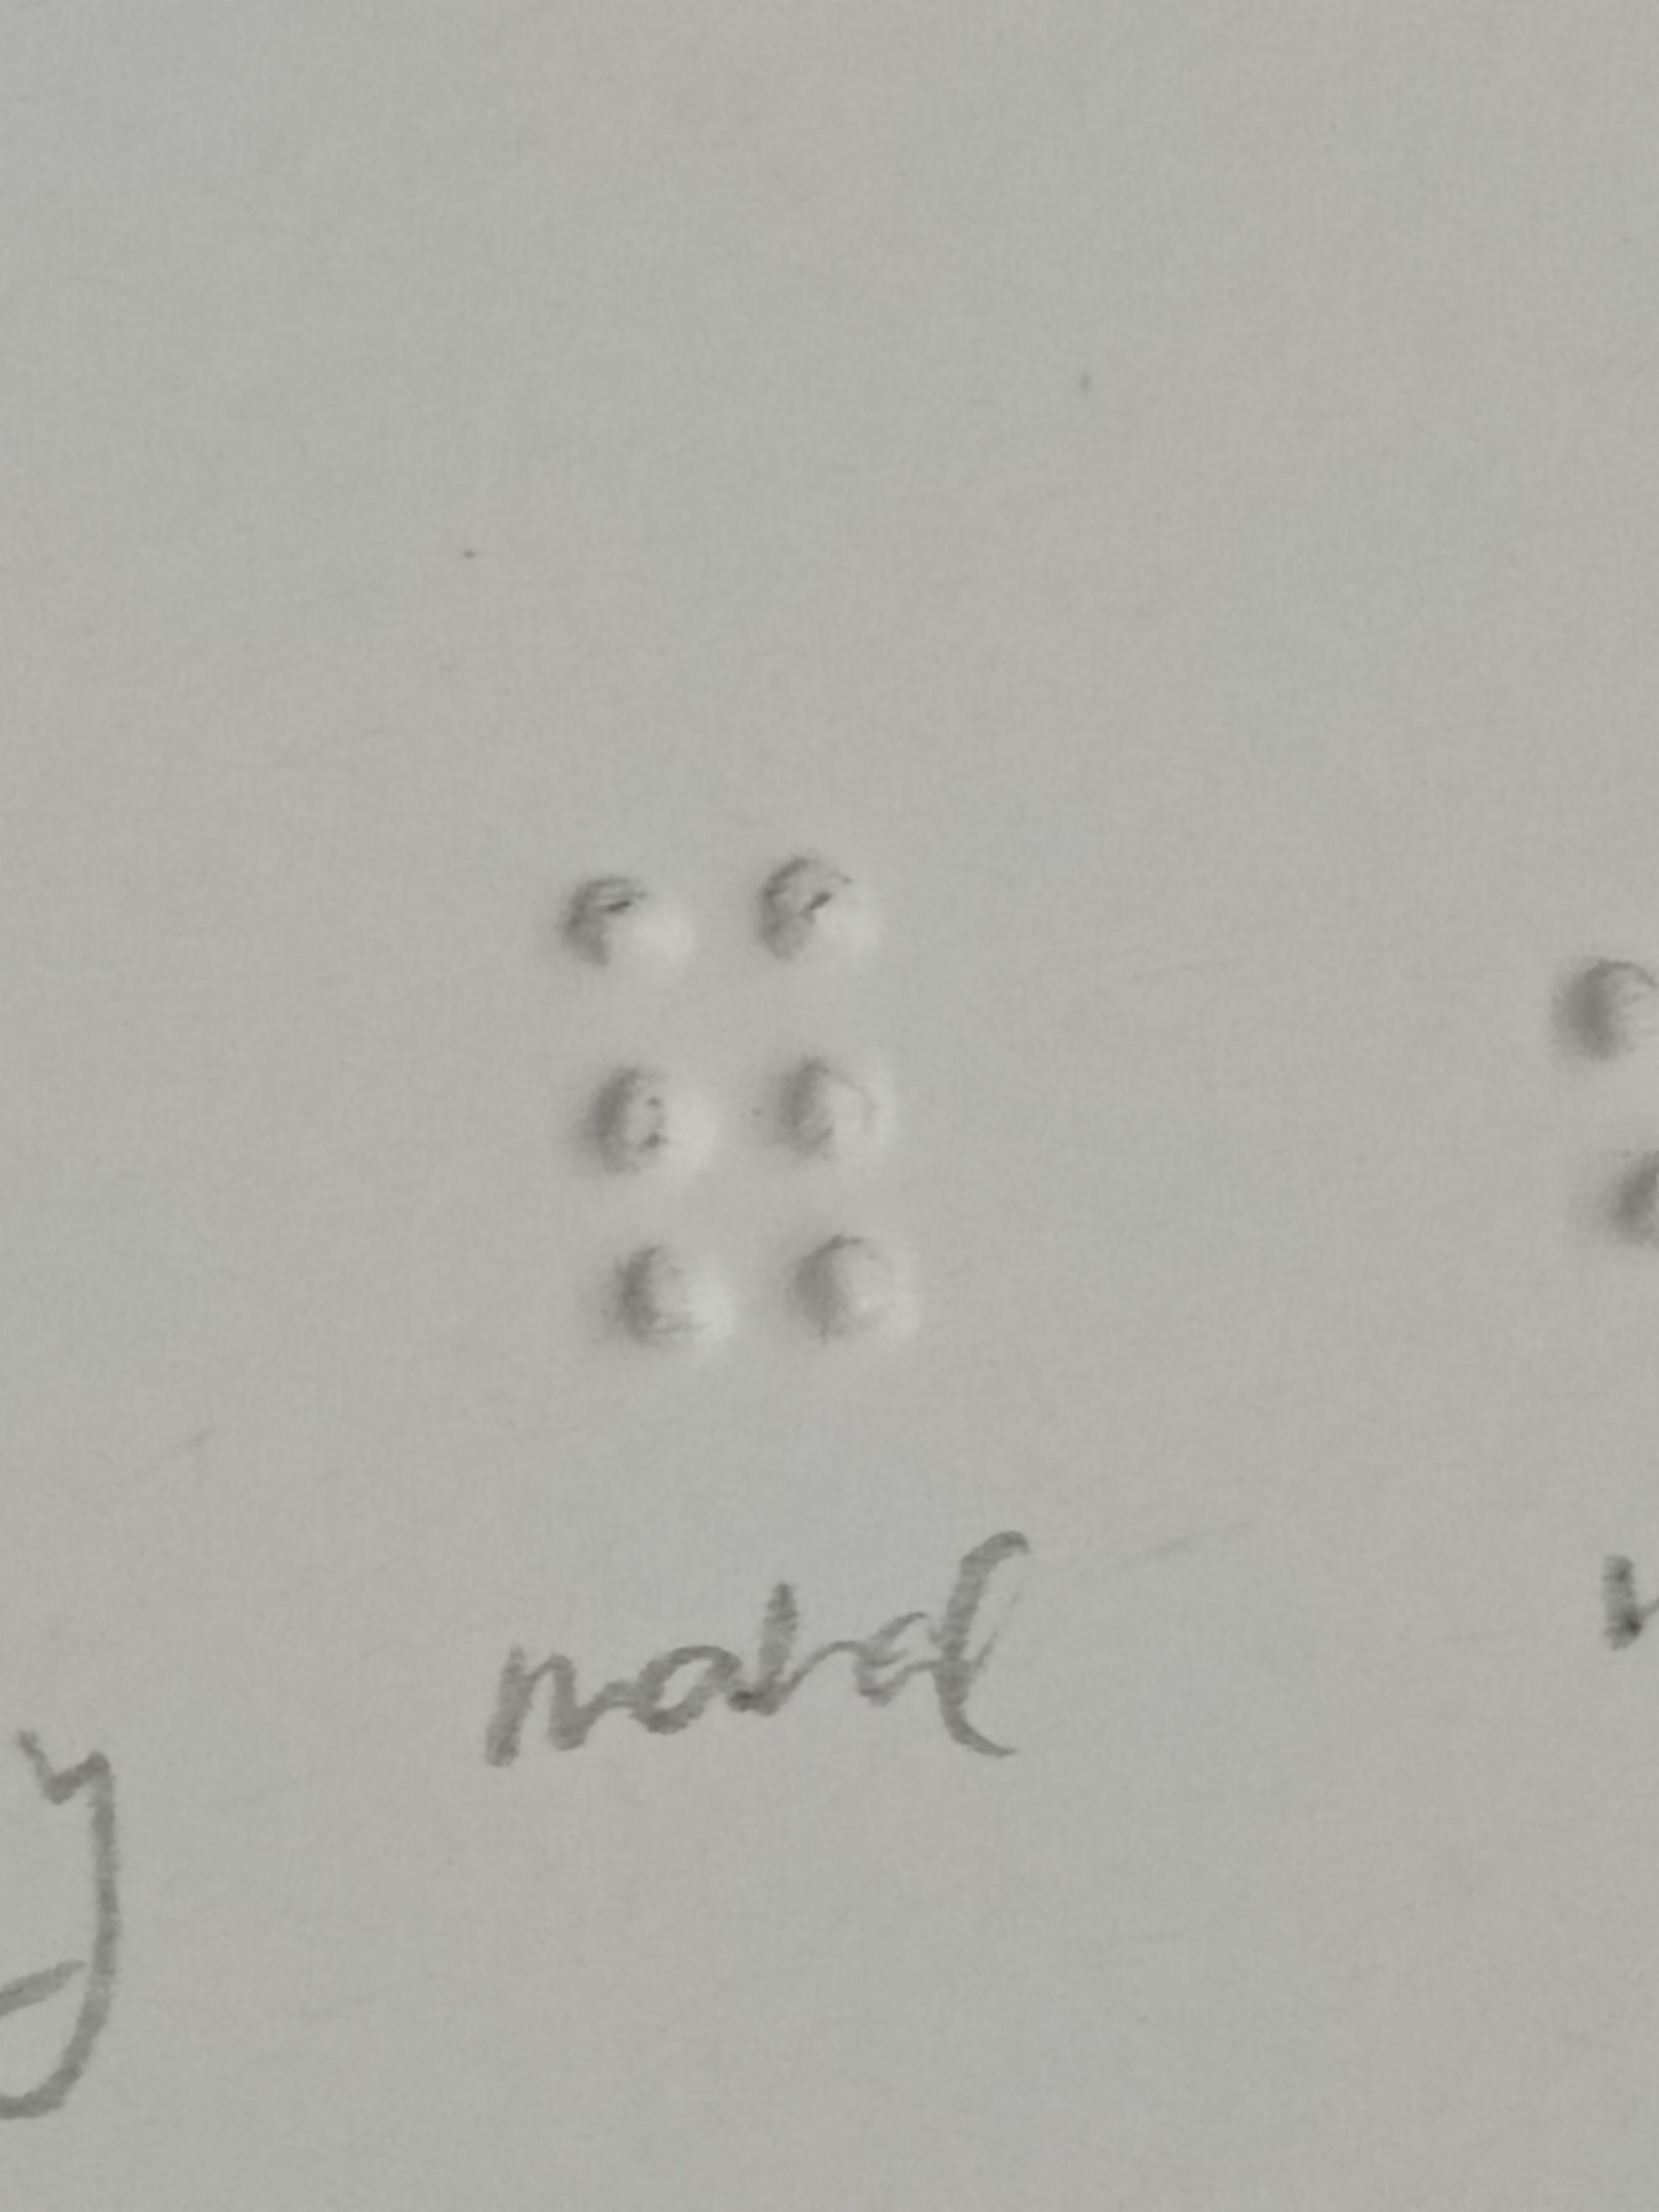one_cell_non_alphabet_mahal: (570, 859, 903, 1371)
